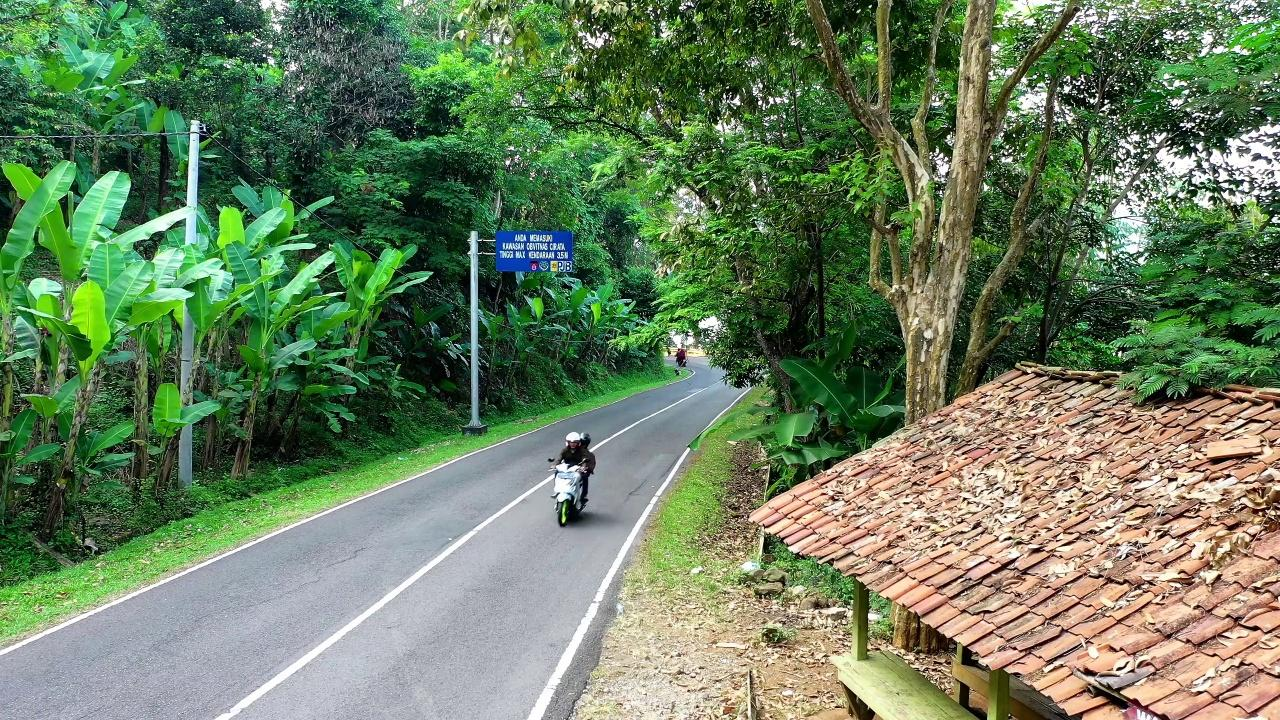Helmet: (557, 432, 595, 503)
Motor: (553, 462, 582, 526), (676, 356, 686, 367)
